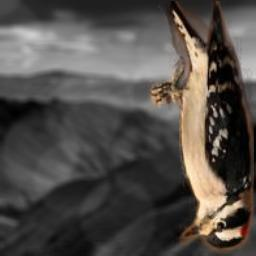Woodpecker: (148, 1, 254, 256)
